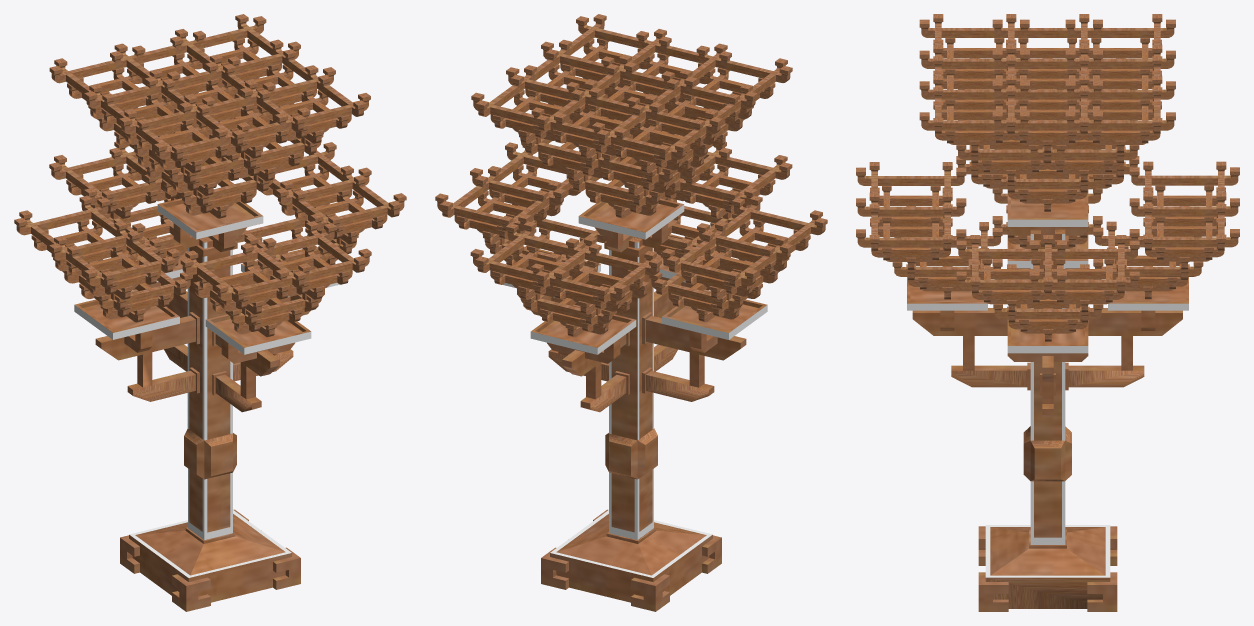
3 views of the same model, side by side, from view 1: azimuth 30°, elevation 25°; view 2: azimuth 150°, elevation 25°; view 3: azimuth 270°, elevation 25° (orthographic). The views are drawn at different scales.
Parts seen in each view (by area): view 1: R5L3; view 2: R5L3; view 3: R5L3.
Part boxes in pixels (x1,y1,x2,y2): R5L3: (14, 14, 406, 611); R5L3: (435, 14, 827, 611); R5L3: (856, 14, 1239, 611).
Size of the model in its own units: 47 by 69.52 by 47.
2 materials, 1 textured.
